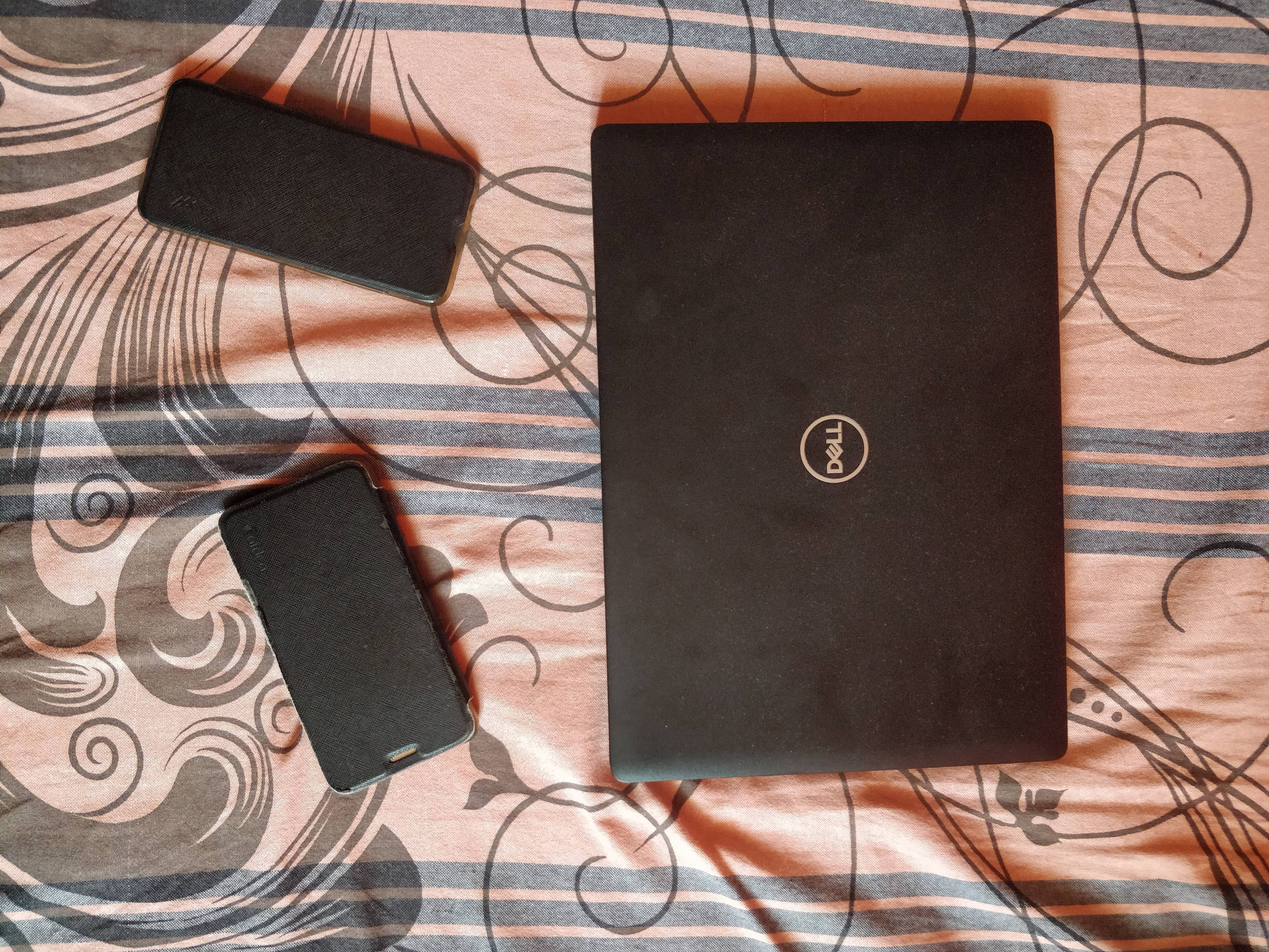Electronics: (576, 80, 1100, 813), (197, 445, 499, 804), (118, 60, 505, 334)
